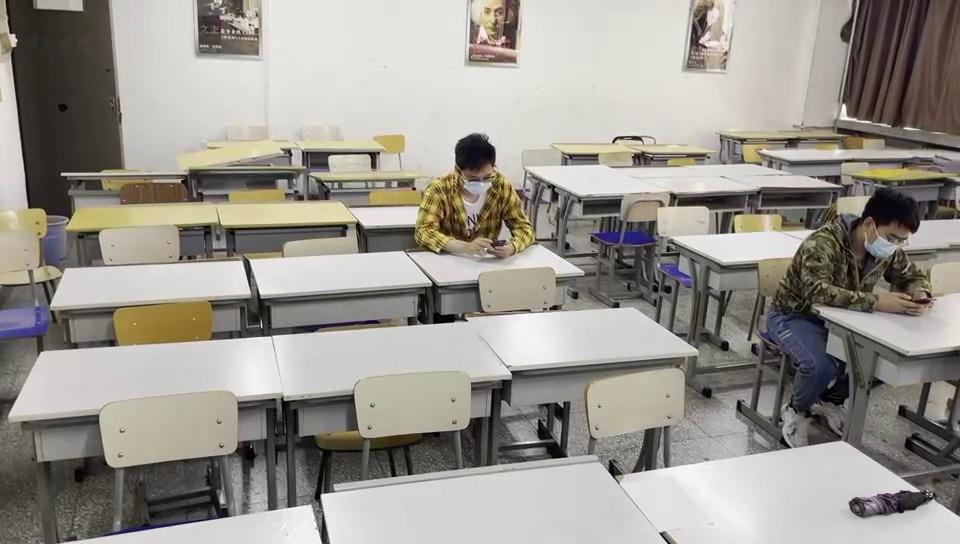phone: (818, 188, 936, 312), (417, 137, 535, 255)
